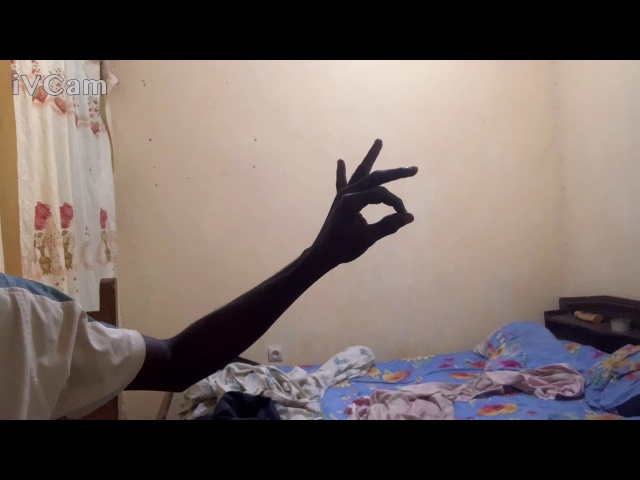oui: (316, 134, 424, 274)
